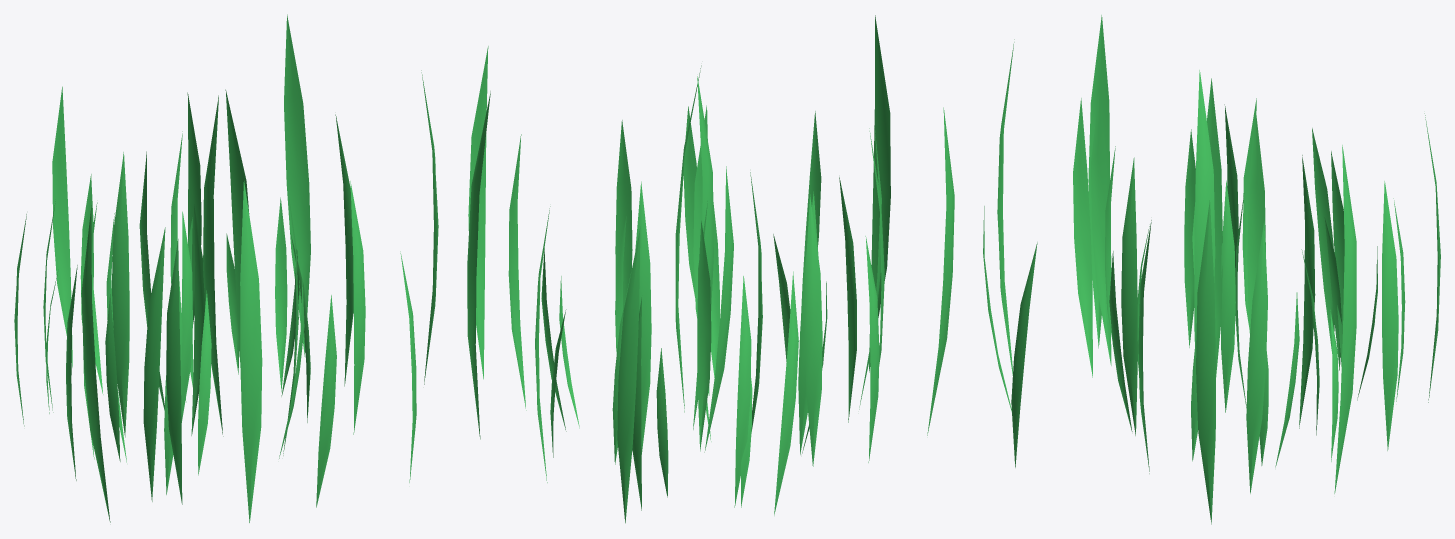
The model's file is Grass_.fbx.
3 views of the same model, side by side, from view 1: azimuth 30°, elevation 25°; view 2: azimuth 150°, elevation 25°; view 3: azimuth 270°, elevation 25° (orthographic). The views are drawn at different scales.
Visible parts, largest first — view 1: Plane.004; view 2: Plane.004; view 3: Plane.004.
Boxes of the visible parts, bbox=[...] form: Plane.004: bbox=[14, 14, 438, 522]; Plane.004: bbox=[467, 15, 954, 523]; Plane.004: bbox=[983, 15, 1440, 524].
Bounding box in the file's own units: 201 × 170 × 195.
